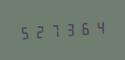five: (17, 23, 31, 42)
four: (93, 17, 107, 36)
seven: (48, 21, 62, 40)
six: (78, 18, 92, 37)
three: (63, 19, 77, 38)
two: (32, 22, 46, 41)
